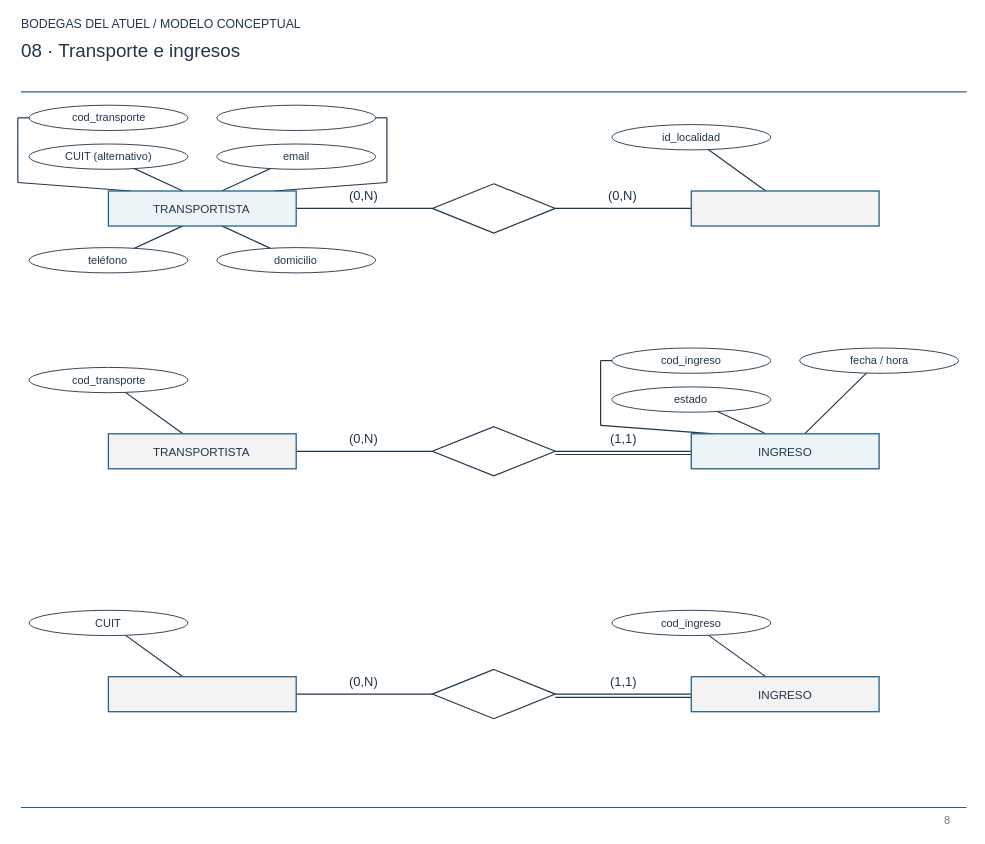
This 985x844 diagram has some shape labels left out. The shapes that lost their labels are listed below. From the top down, each one's centre as x and y in pixels, then its label:
At (296,117): "razón social".
At (493,208): "cubre".
At (784,208): "LOCALIDAD".
At (493,451): "traslada".
At (201,694): "BODEGA".
At (493,693): "origina".
